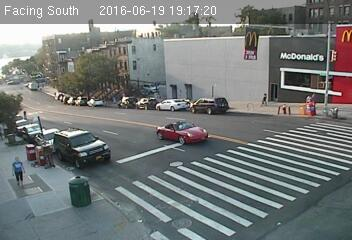neg: (324, 108, 339, 128), (4, 105, 17, 122), (2, 63, 14, 78), (2, 46, 11, 59)
pos: (3, 154, 31, 192), (258, 90, 273, 110)
